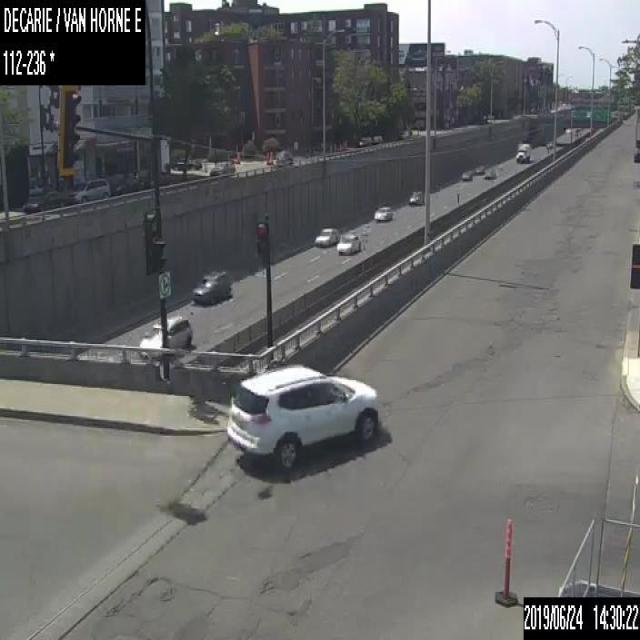construction: (494, 515, 520, 609), (269, 150, 273, 164), (332, 141, 336, 151), (235, 151, 239, 161), (328, 142, 332, 151), (266, 149, 268, 163)
vehicle: (224, 363, 379, 469), (141, 314, 193, 354), (191, 268, 231, 304), (21, 187, 66, 211), (66, 178, 109, 202), (108, 175, 138, 195), (314, 225, 339, 248), (337, 233, 362, 253), (172, 157, 201, 170), (209, 161, 235, 175), (136, 168, 153, 188), (515, 139, 530, 161), (372, 204, 392, 220), (275, 148, 291, 164), (408, 189, 425, 204), (158, 169, 172, 185), (358, 134, 370, 146), (461, 169, 472, 179), (372, 135, 382, 144), (484, 168, 494, 177), (474, 165, 484, 173)
